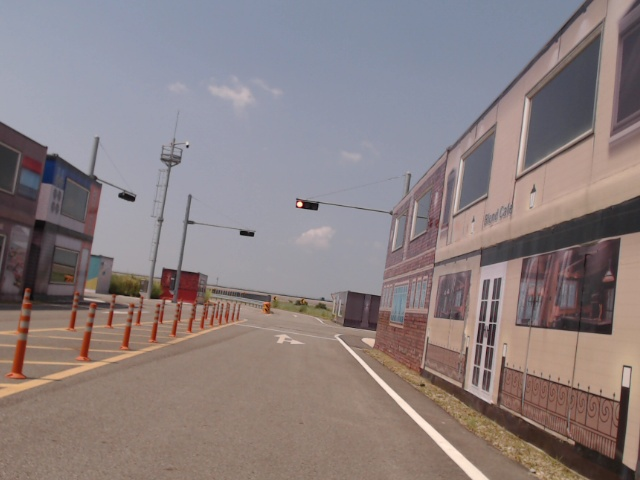red_3: (297, 201, 318, 210)
